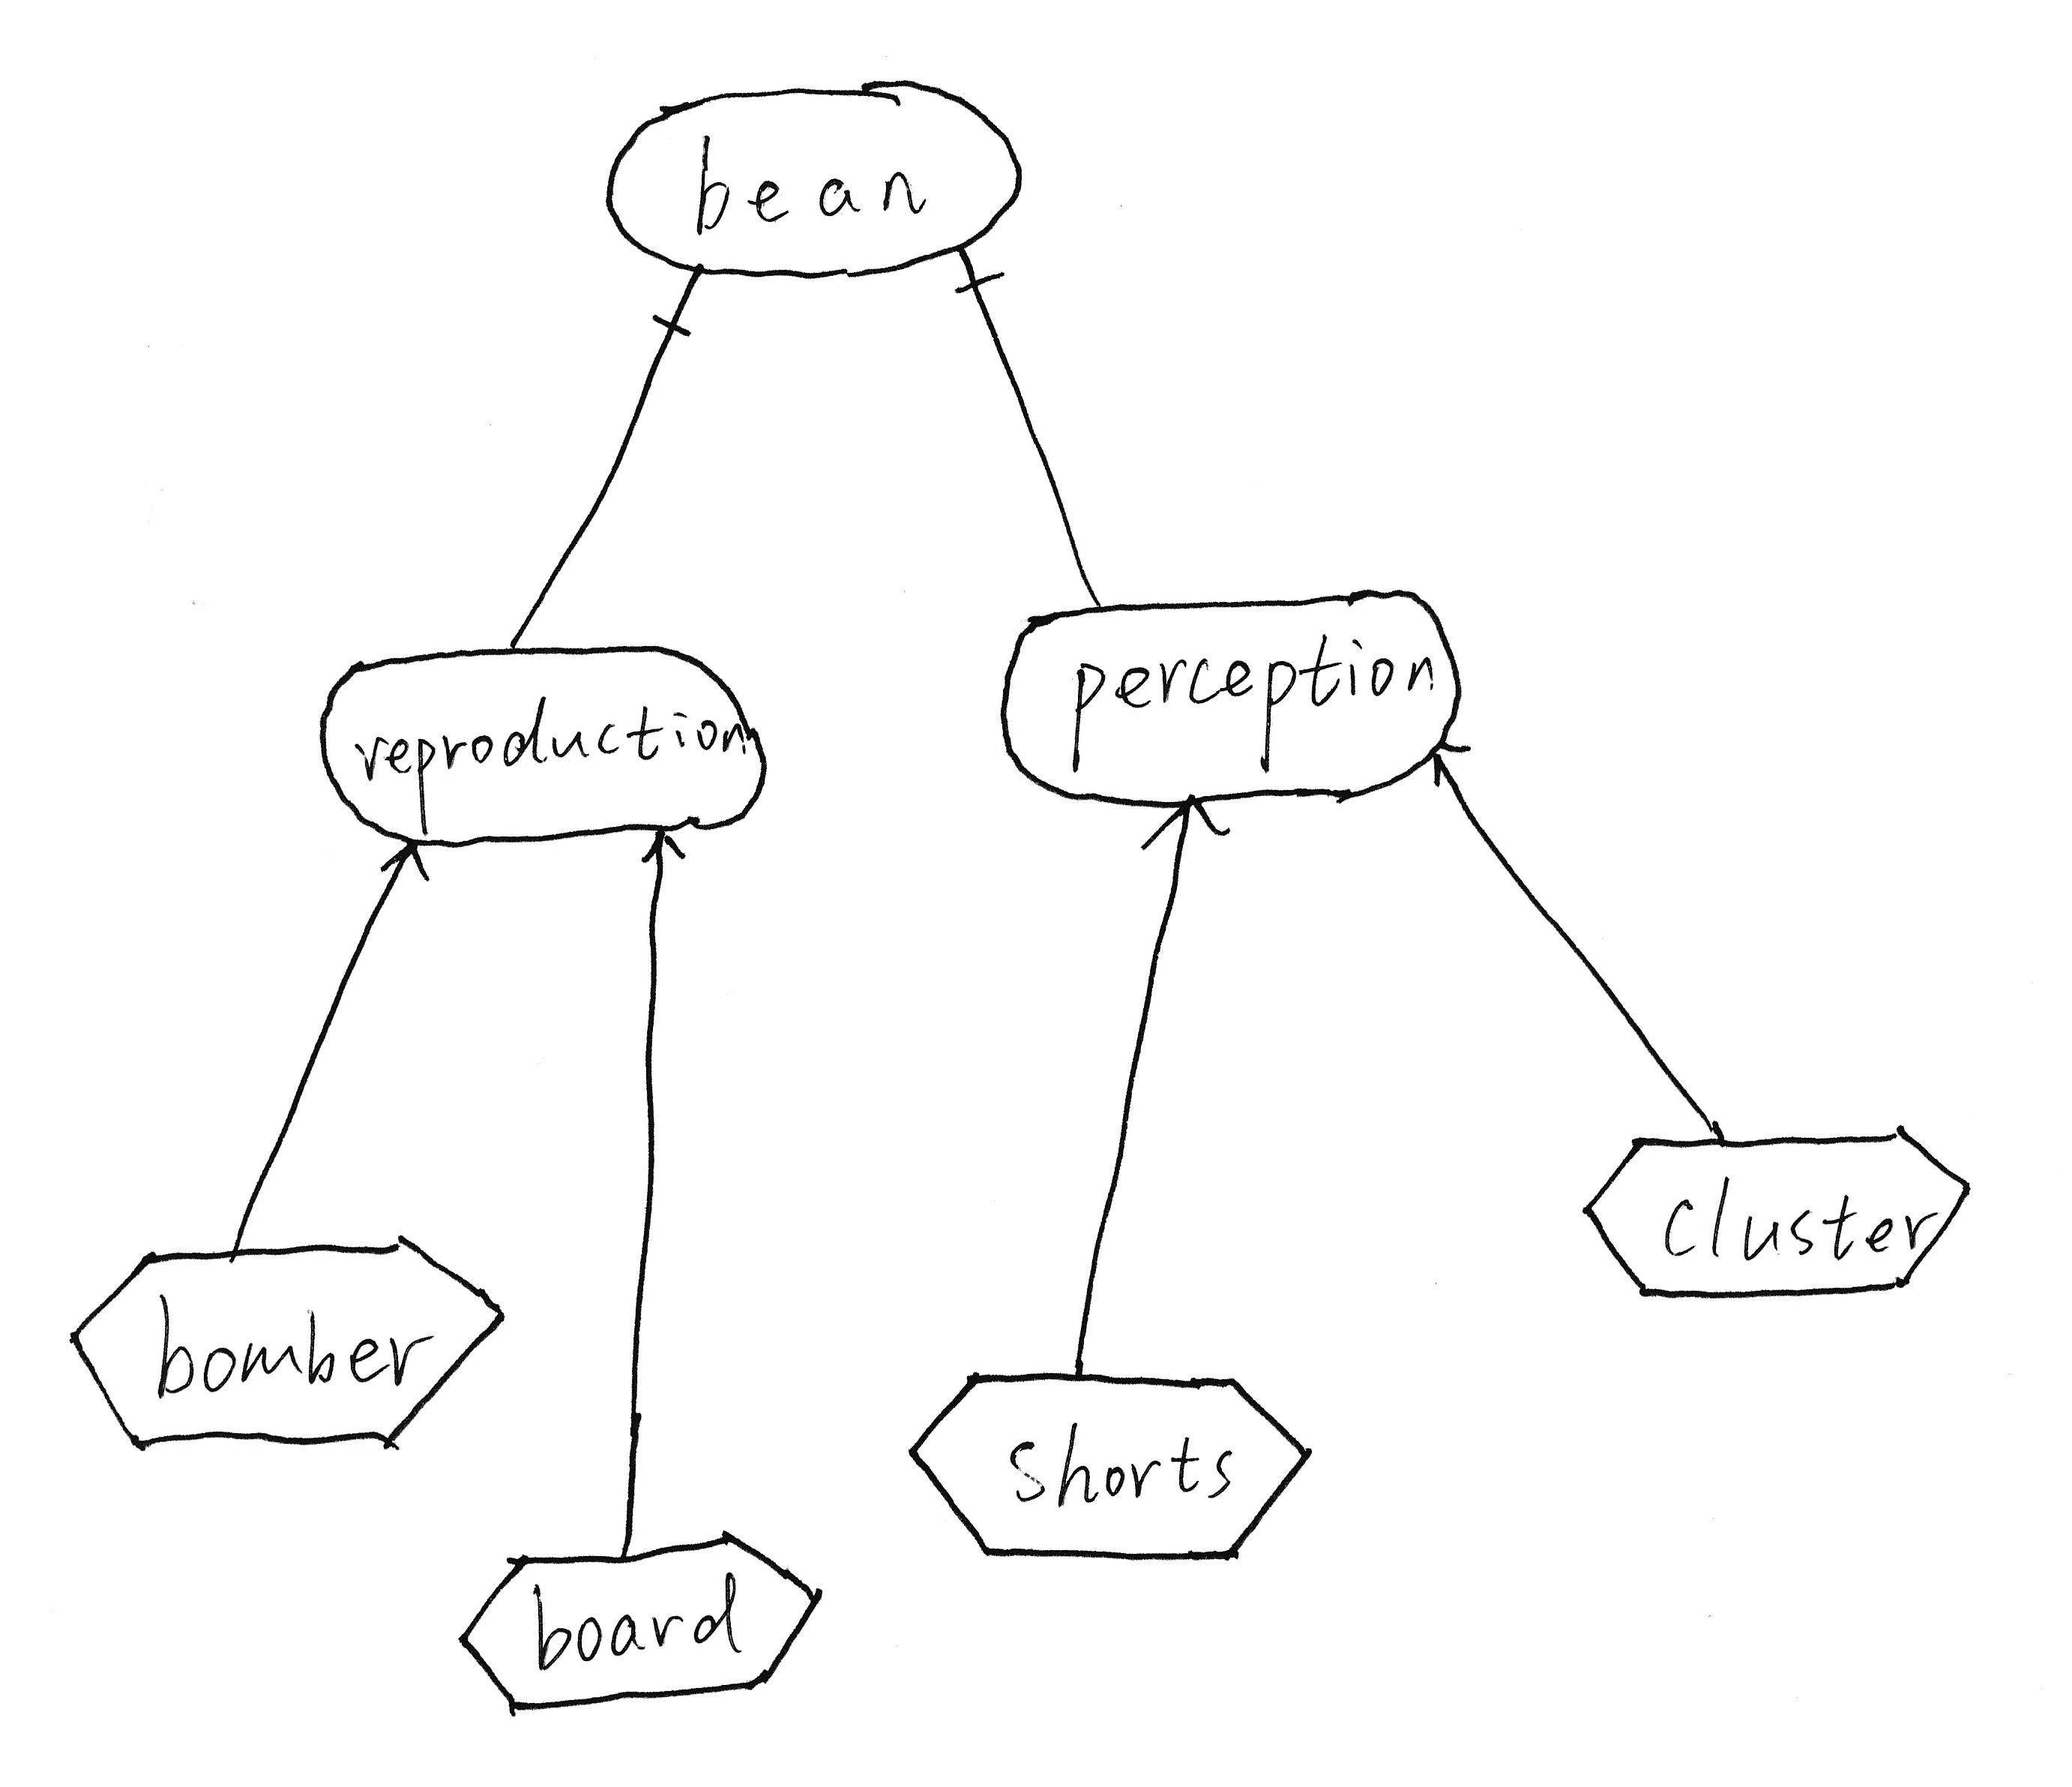and: (629, 277, 710, 370), (939, 250, 1022, 324)
arrow: (1121, 786, 1247, 874), (1408, 726, 1492, 814), (618, 816, 705, 888), (366, 827, 446, 901)
goal: (987, 573, 1485, 827), (301, 627, 784, 858), (592, 69, 1031, 291)
task: (55, 1228, 523, 1472), (895, 1357, 1325, 1581), (1565, 1105, 1994, 1320), (440, 1514, 842, 1724)
